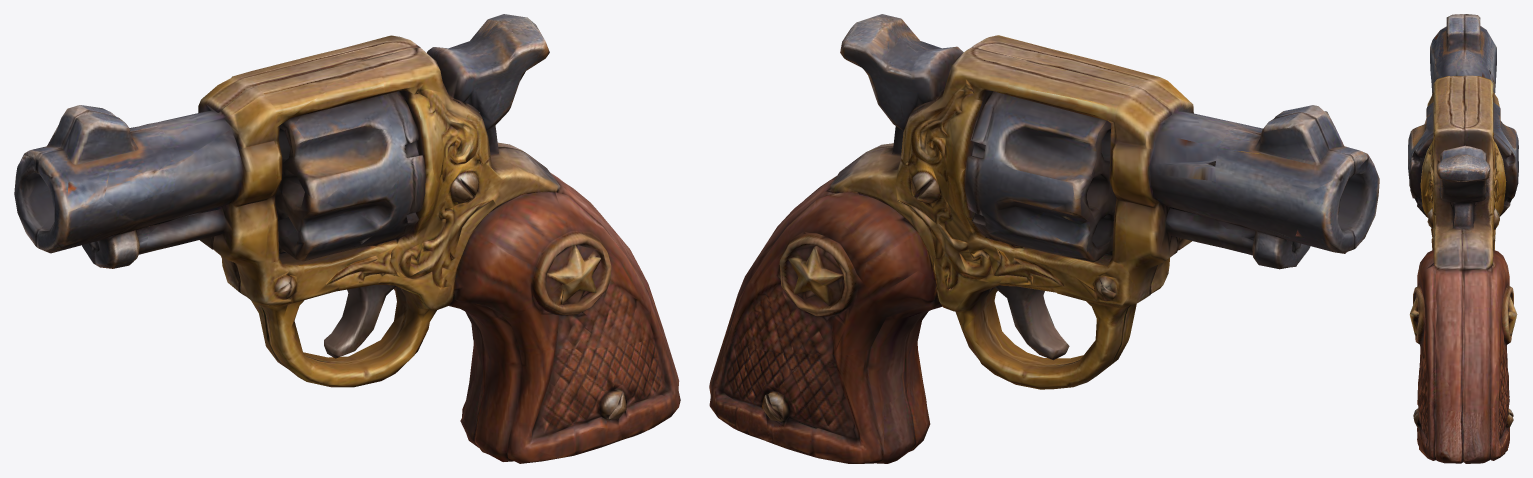
File: revolver.glb
3 views of the same model, side by side, from view 1: azimuth 30°, elevation 25°; view 2: azimuth 150°, elevation 25°; view 3: azimuth 270°, elevation 25° (orthographic). The views are drawn at different scales.
Parts seen in each view (by area): view 1: tripo_node_9681079e-34de-4ea2-a87c-b8c5593bf5fa; view 2: tripo_node_9681079e-34de-4ea2-a87c-b8c5593bf5fa; view 3: tripo_node_9681079e-34de-4ea2-a87c-b8c5593bf5fa.
Part boxes in pixels (x1,y1,x2,y2): tripo_node_9681079e-34de-4ea2-a87c-b8c5593bf5fa: (14,14,680,463); tripo_node_9681079e-34de-4ea2-a87c-b8c5593bf5fa: (709,14,1379,463); tripo_node_9681079e-34de-4ea2-a87c-b8c5593bf5fa: (1408,14,1518,463).
Size of the model in its own units: 0.9779 by 0.6513 by 0.2325.
1 material, 1 textured.
